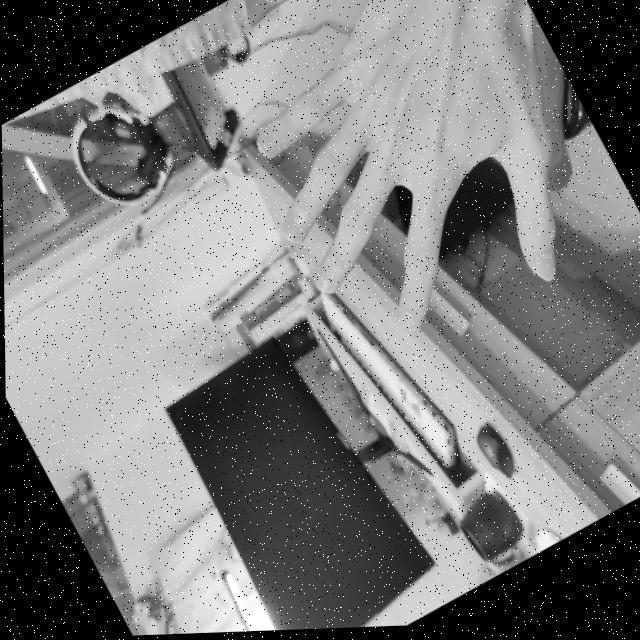no-gloves: (186, 0, 628, 393)
